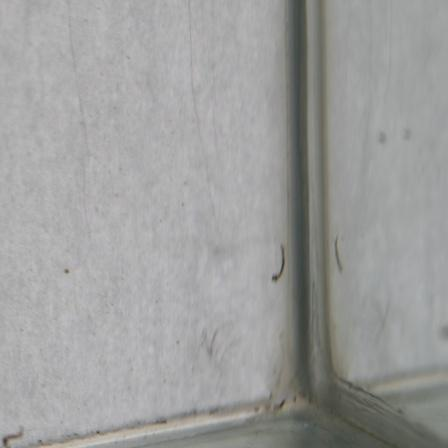Jentik-Nyamuk: (266, 242, 290, 283)
